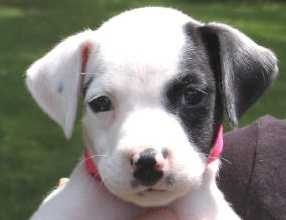Dog: (25, 7, 277, 207)
